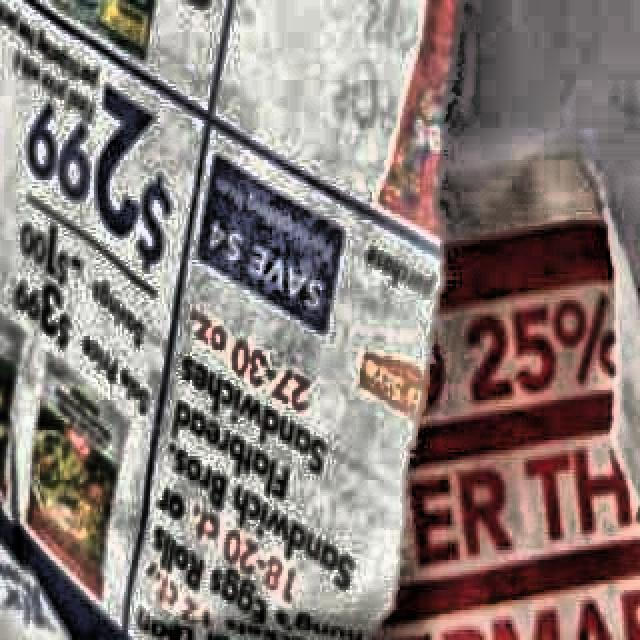paper: (0, 0, 468, 640), (236, 150, 640, 640)
